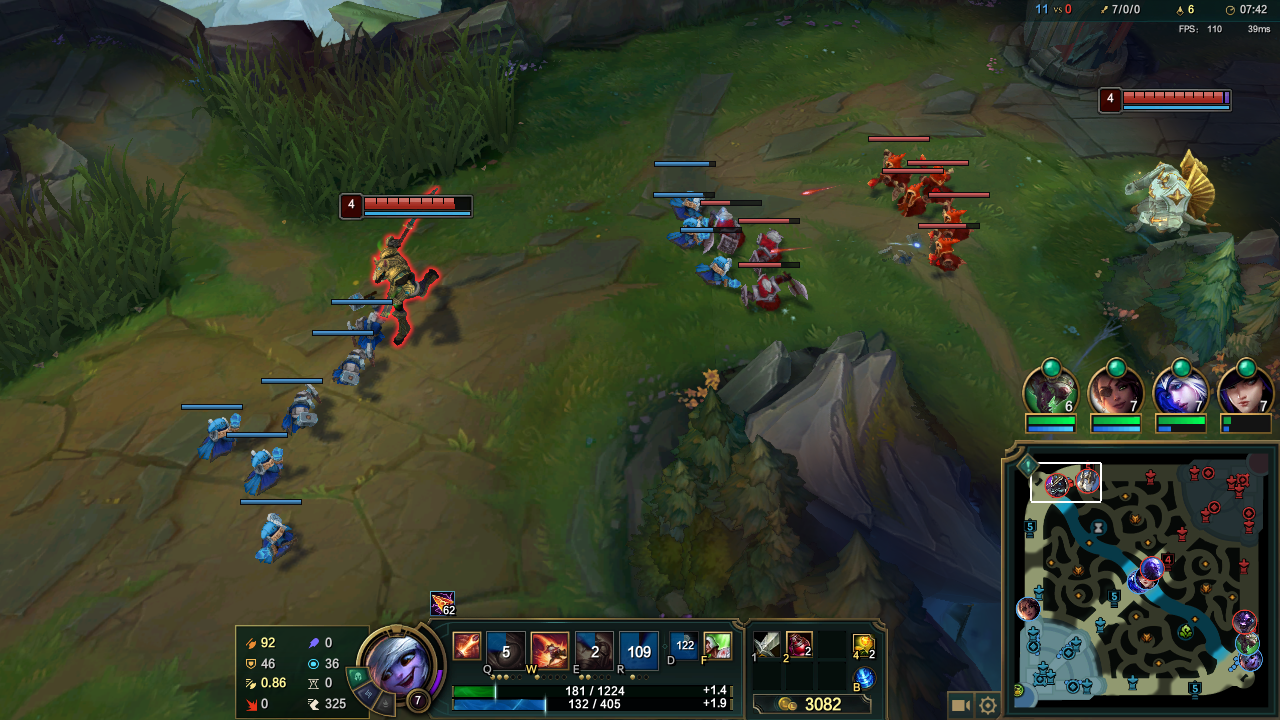DFXB: (736, 270, 812, 321), (699, 206, 754, 257), (921, 205, 986, 243), (922, 239, 972, 282), (866, 149, 918, 189), (745, 225, 790, 269), (914, 161, 958, 205), (896, 182, 930, 215)
DFYX: (365, 193, 450, 218), (1120, 92, 1209, 110)
WFXB: (236, 441, 298, 500), (322, 343, 383, 391), (250, 513, 303, 568), (277, 387, 322, 435), (694, 251, 743, 294), (667, 213, 715, 254), (199, 414, 241, 459), (341, 310, 392, 347), (663, 181, 708, 220)
Yita: (1187, 673, 1203, 699)
